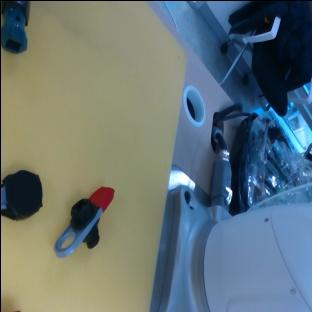part_1_good: (49, 176, 122, 269)
part_2_bad: (0, 1, 29, 53)
part_3_bad: (0, 169, 41, 220)
